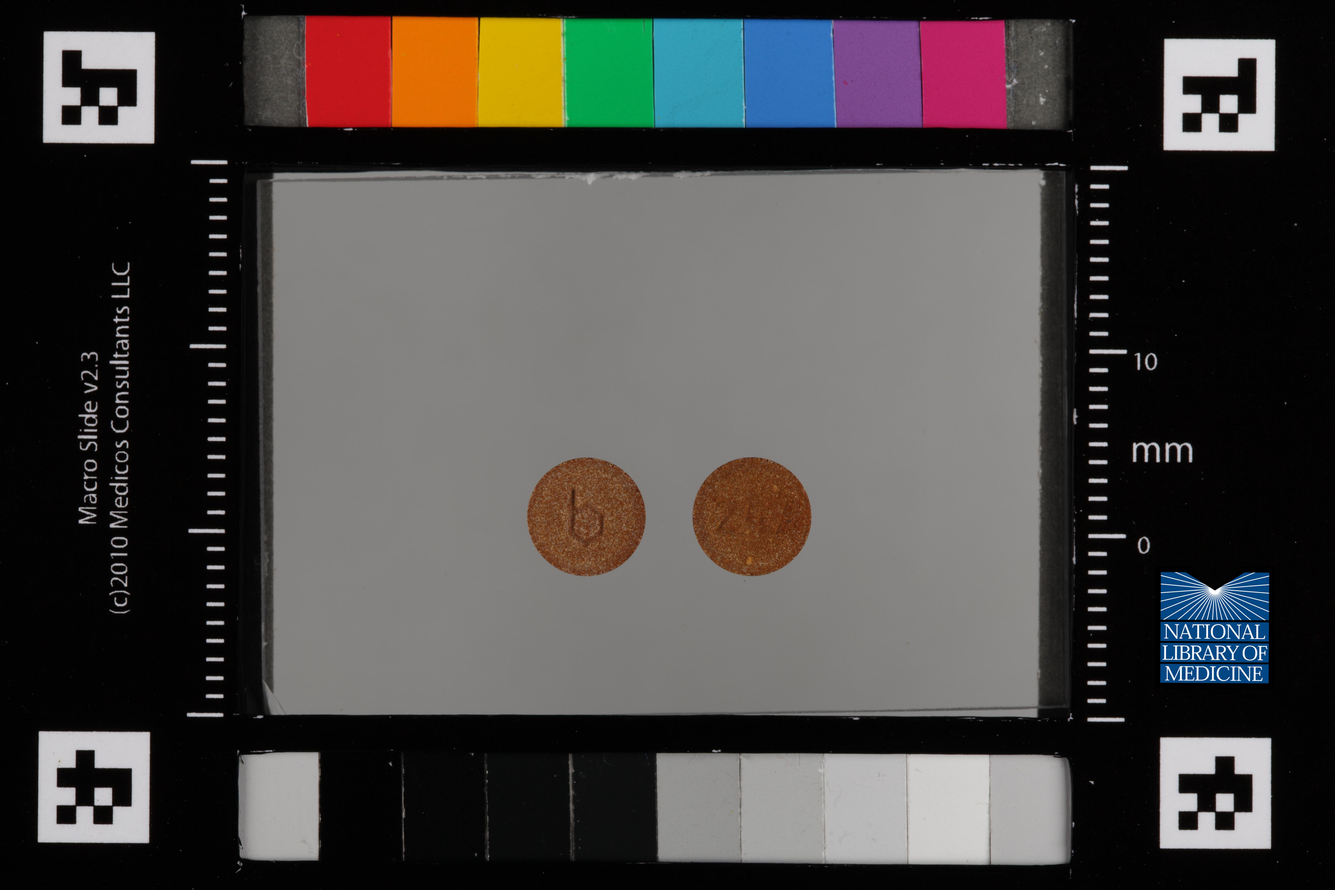Pill: (682, 447, 817, 589), (518, 447, 653, 584)
